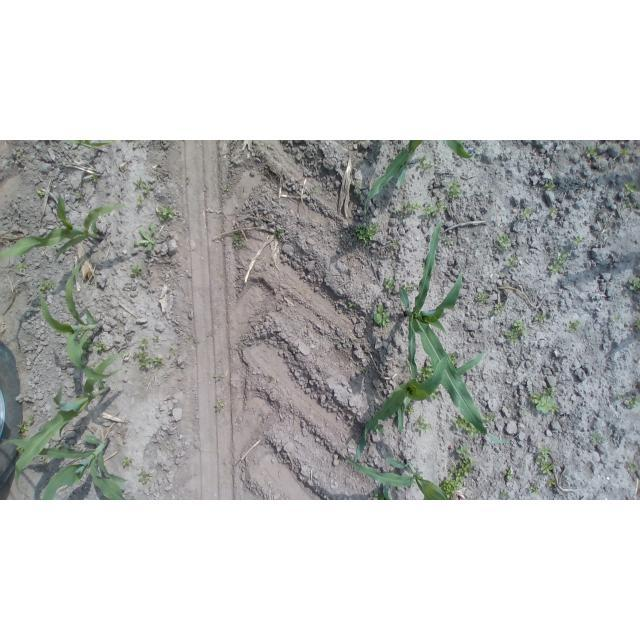Maize: (394, 216, 520, 444), (8, 346, 124, 500), (354, 352, 487, 465), (37, 255, 123, 385), (0, 188, 132, 264), (364, 141, 476, 218), (7, 433, 129, 500), (344, 445, 461, 500), (64, 140, 117, 153)
Weeds: (439, 446, 475, 498), (530, 386, 562, 414), (535, 446, 556, 481), (134, 224, 159, 253), (505, 320, 530, 346), (453, 415, 480, 439), (354, 223, 381, 245), (132, 351, 161, 370), (547, 251, 569, 275), (373, 305, 392, 328), (422, 201, 446, 219), (418, 361, 436, 384), (397, 200, 422, 216), (134, 176, 154, 194), (415, 415, 432, 435), (446, 180, 463, 199), (156, 205, 175, 222), (623, 183, 637, 206), (80, 337, 93, 361), (418, 155, 434, 174), (497, 233, 512, 249), (233, 233, 248, 249), (383, 276, 396, 294), (623, 395, 638, 410), (40, 280, 55, 294), (475, 291, 490, 305), (139, 470, 152, 484), (567, 320, 582, 332), (629, 276, 640, 292), (590, 432, 603, 445), (17, 423, 31, 435), (585, 146, 597, 159), (492, 303, 504, 315), (528, 484, 540, 496), (484, 412, 496, 424), (95, 340, 107, 352), (354, 182, 363, 197), (130, 265, 142, 276), (405, 282, 416, 294), (506, 257, 518, 268), (405, 403, 416, 415), (503, 469, 515, 480), (520, 208, 532, 219), (535, 313, 548, 323), (429, 390, 440, 401), (448, 352, 458, 364), (217, 400, 226, 413), (139, 338, 150, 348), (89, 171, 100, 181), (620, 147, 631, 157), (389, 239, 400, 249), (627, 461, 637, 472), (121, 457, 132, 467), (56, 442, 69, 450), (572, 235, 582, 245), (17, 262, 28, 271), (544, 182, 555, 191), (136, 195, 144, 207), (275, 226, 283, 238), (500, 490, 510, 499), (28, 415, 37, 425), (36, 187, 45, 197), (15, 446, 25, 455), (372, 491, 382, 500), (405, 360, 412, 372), (547, 478, 557, 486), (168, 347, 176, 357), (550, 207, 558, 217), (76, 192, 84, 201), (443, 237, 452, 245), (41, 457, 51, 464), (177, 368, 187, 375), (16, 149, 23, 159), (309, 188, 316, 197), (612, 316, 620, 323), (520, 461, 528, 468), (348, 301, 356, 308), (87, 280, 95, 287), (634, 320, 639, 331), (224, 185, 231, 191), (506, 405, 513, 411), (214, 375, 221, 381), (359, 366, 365, 372), (268, 374, 274, 380), (520, 411, 526, 417), (153, 336, 159, 341), (130, 495, 135, 499)
